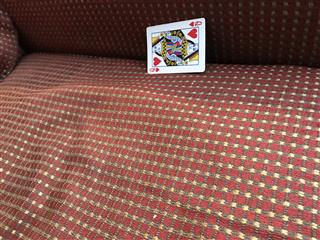QueenOfHearts: (145, 17, 206, 74)
